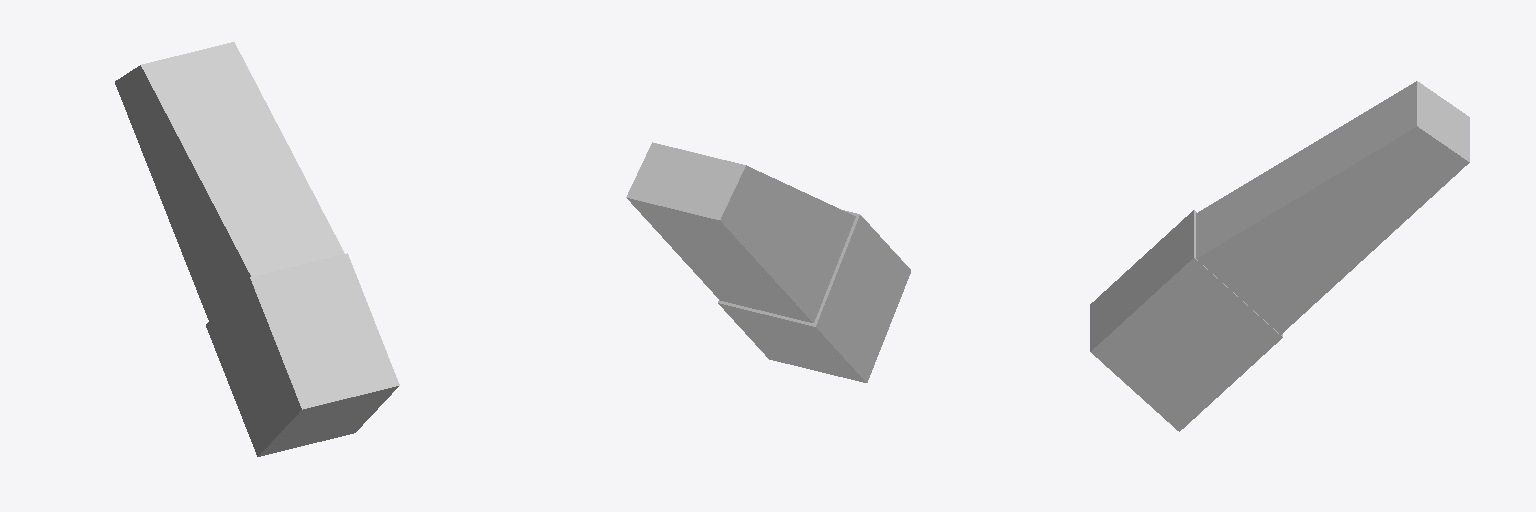
Rendered from hand_003.obj.
3 views of the same model, side by side, from view 1: azimuth 30°, elevation 25°; view 2: azimuth 150°, elevation 25°; view 3: azimuth 270°, elevation 25° (orthographic).
Parts seen in each view (by area): view 1: Куб; view 2: Куб; view 3: Куб.
Boxes of the visible parts, x1,y1,x2,y2 form: Куб: [115, 42, 399, 456]; Куб: [626, 142, 910, 382]; Куб: [1090, 81, 1469, 431].
Size of the model in its own units: 0.2006 by 0.5947 by 0.6708.